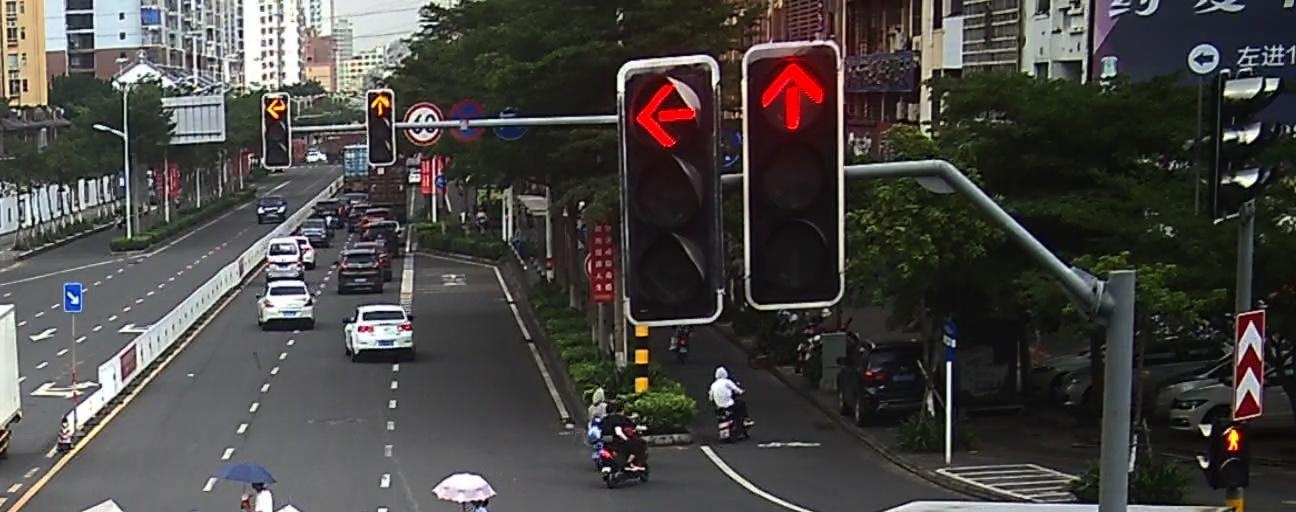redleft: (634, 80, 700, 150), (265, 96, 287, 121)
redpeople: (1221, 426, 1245, 454)
redstraight: (754, 59, 830, 134), (369, 94, 391, 117)
